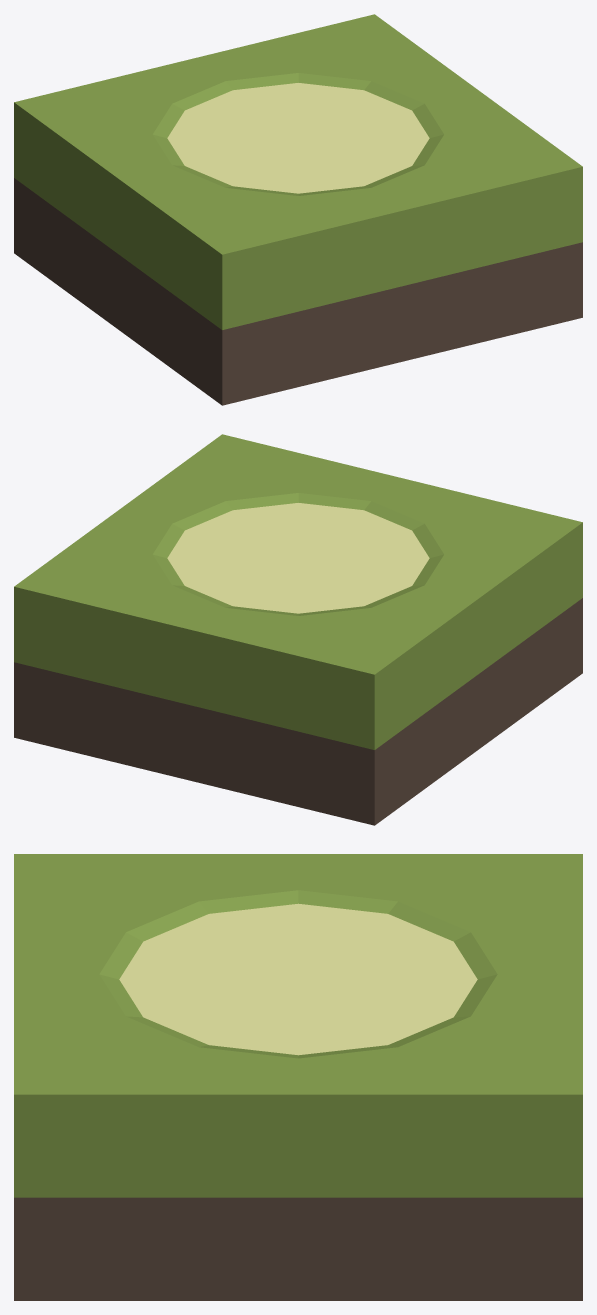
The model's file is grass-tile-golfSand_02_small.fbx.
3 renders of one model, top to bottom at view 1: azimuth 30°, elevation 25°; view 2: azimuth 150°, elevation 25°; view 3: azimuth 270°, elevation 25°, orthographic. The views are drawn at different scales.
Visible parts, largest first — view 1: grass-tile-golfSand_02_small; view 2: grass-tile-golfSand_02_small; view 3: grass-tile-golfSand_02_small.
Part boxes in pixels (<box>): grass-tile-golfSand_02_small: <box>14,14,582,405</box>; grass-tile-golfSand_02_small: <box>14,434,582,825</box>; grass-tile-golfSand_02_small: <box>14,854,582,1300</box>.
Bounding box in the file's own units: 1000 × 400 × 1000.
